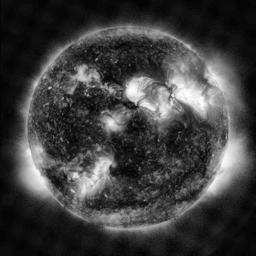solar flares: (71, 160, 110, 195), (169, 73, 202, 109), (142, 98, 172, 117), (75, 69, 100, 86), (31, 141, 49, 164), (126, 80, 143, 102), (104, 112, 126, 129)
sunspots: (115, 144, 139, 175), (125, 57, 162, 77), (94, 194, 146, 208), (59, 113, 79, 149), (162, 123, 183, 151), (72, 95, 100, 109), (49, 170, 69, 189), (123, 117, 145, 134), (170, 172, 193, 188), (102, 69, 121, 83), (118, 41, 144, 51), (85, 124, 99, 142), (194, 154, 208, 171), (89, 49, 104, 63)
